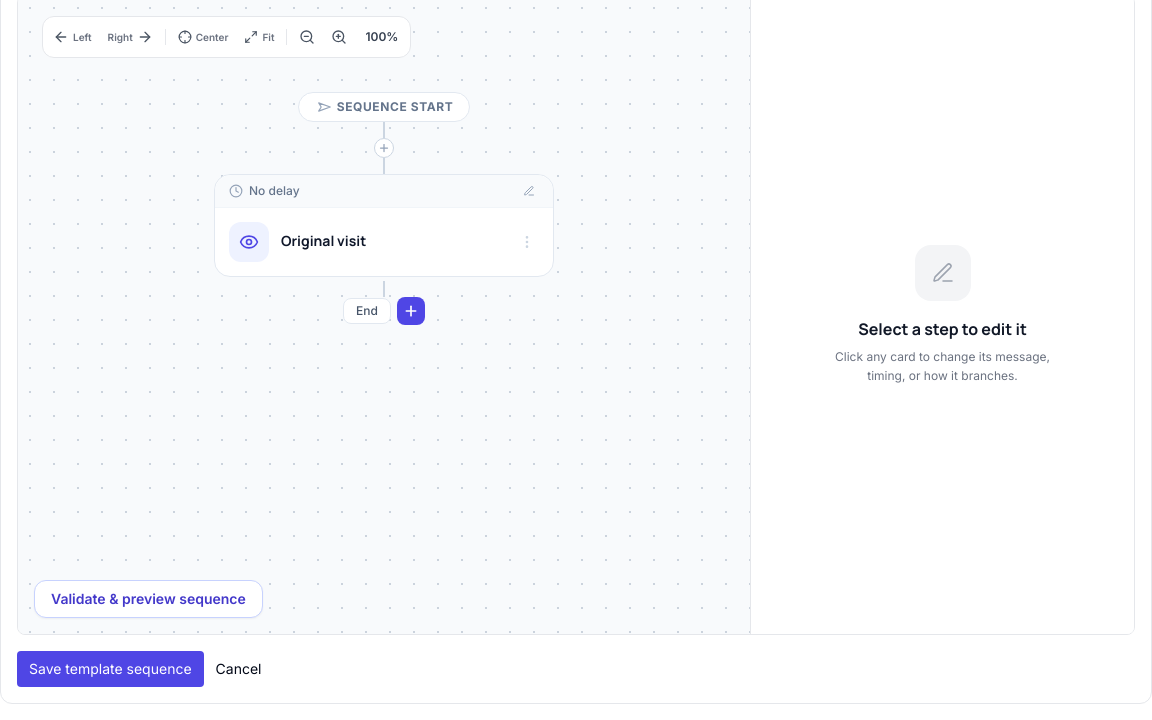
Test: unknown network can recover only original status without POST replay
Later steps or results of the test are not shown.
(page scrolled)
Step 1. Click the button "Save template sequence" → (110, 669), box [17,651,204,687]
(page scrolled)
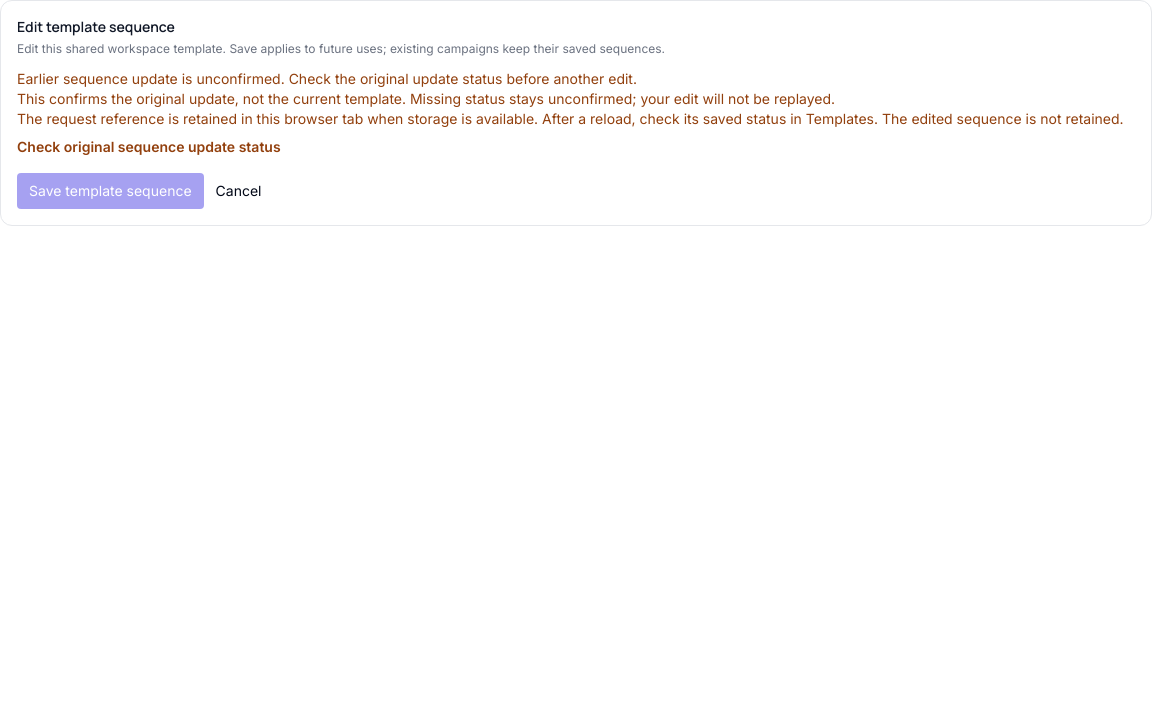
Result: the text "Earlier sequence update is unconfirmed" is shown at [17,70,637,87]
Result: the button "Cancel" is disabled at [216,173,262,209]
